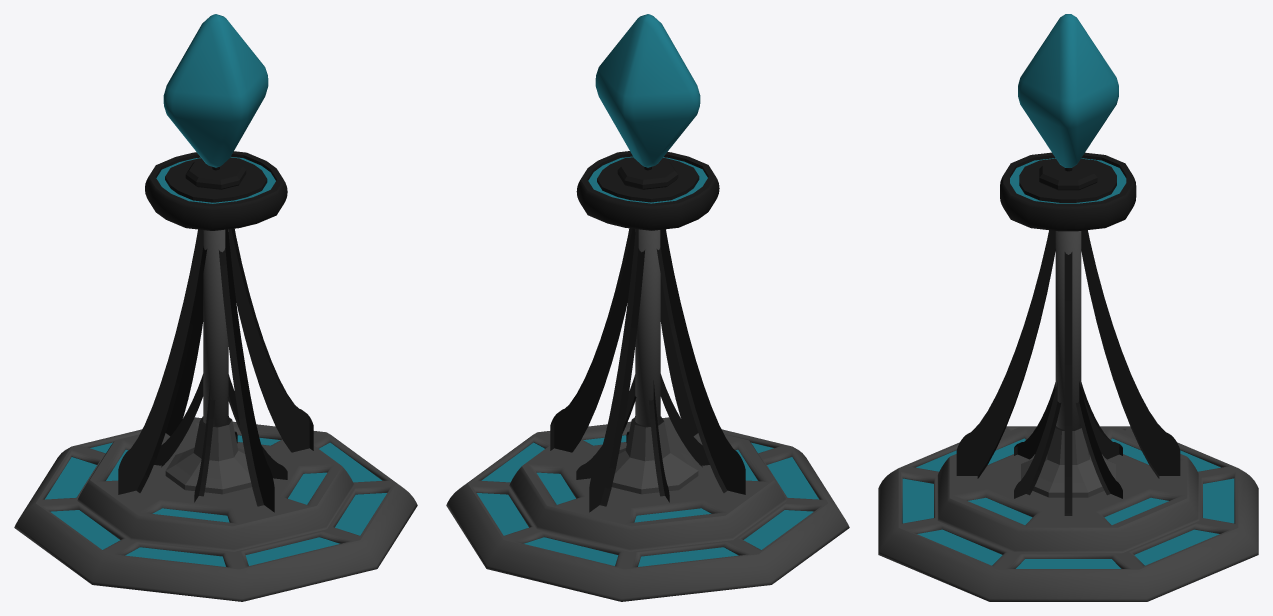
File: crystal_miniature_model.glb
3 renders of one model, left to right at view 1: azimuth 30°, elevation 25°; view 2: azimuth 150°, elevation 25°; view 3: azimuth 270°, elevation 25°, orthographic.
Parts seen in each view (by area): view 1: Object_3, Object_5, Object_2, Object_4; view 2: Object_3, Object_5, Object_2, Object_4; view 3: Object_3, Object_5, Object_2, Object_4.
Boxes of the visible parts, x1,y1,x2,y2 form: Object_3: (14,417,417,601); Object_5: (118,151,313,512); Object_2: (45,14,386,566); Object_4: (165,229,251,494); Object_3: (446,417,849,601); Object_5: (550,151,745,512); Object_2: (477,14,818,566); Object_4: (612,229,698,494); Object_3: (878,426,1258,601); Object_5: (956,152,1180,515); Object_2: (902,14,1234,568); Object_4: (1021,231,1115,497).
Bounding box in the file's own units: 4.57 × 6.72 × 4.57.
